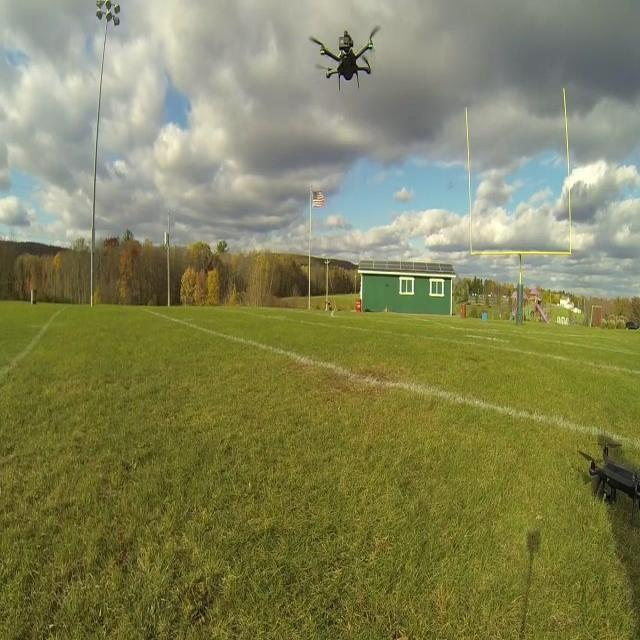drone: (320, 31, 375, 94)
